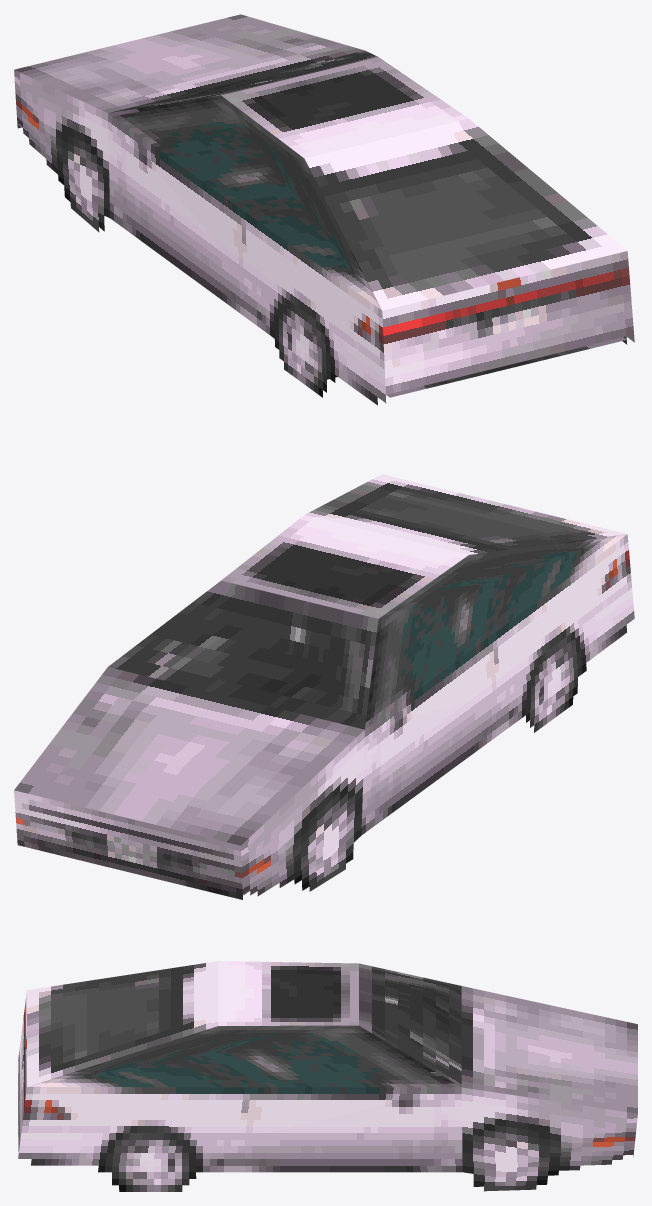
The model's file is car-probe.glb.
The picture shows the model from 3 angles, top to bottom: view 1: azimuth 30°, elevation 25°; view 2: azimuth 150°, elevation 25°; view 3: azimuth 270°, elevation 25°; orthographic projection. The views are drawn at different scales.
Visible parts, largest first — view 1: car-probe; view 2: car-probe; view 3: car-probe.
Part boxes in pixels (x1,y1,x2,y2): car-probe: (14,14,634,405); car-probe: (14,474,634,899); car-probe: (18,961,637,1191).
Bounding box in the file's own units: 1.73 × 1.19 × 4.51.
13 materials, 13 textured.
